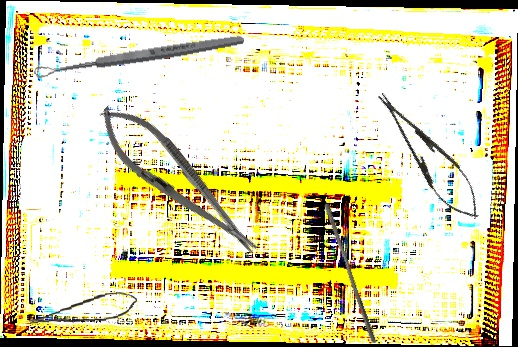Micro Scissor: (27, 289, 139, 328)
Needle Holder: (85, 92, 271, 270), (366, 82, 492, 230)
Pusher: (318, 201, 383, 346)
Surgical Spoon: (33, 32, 245, 80)
